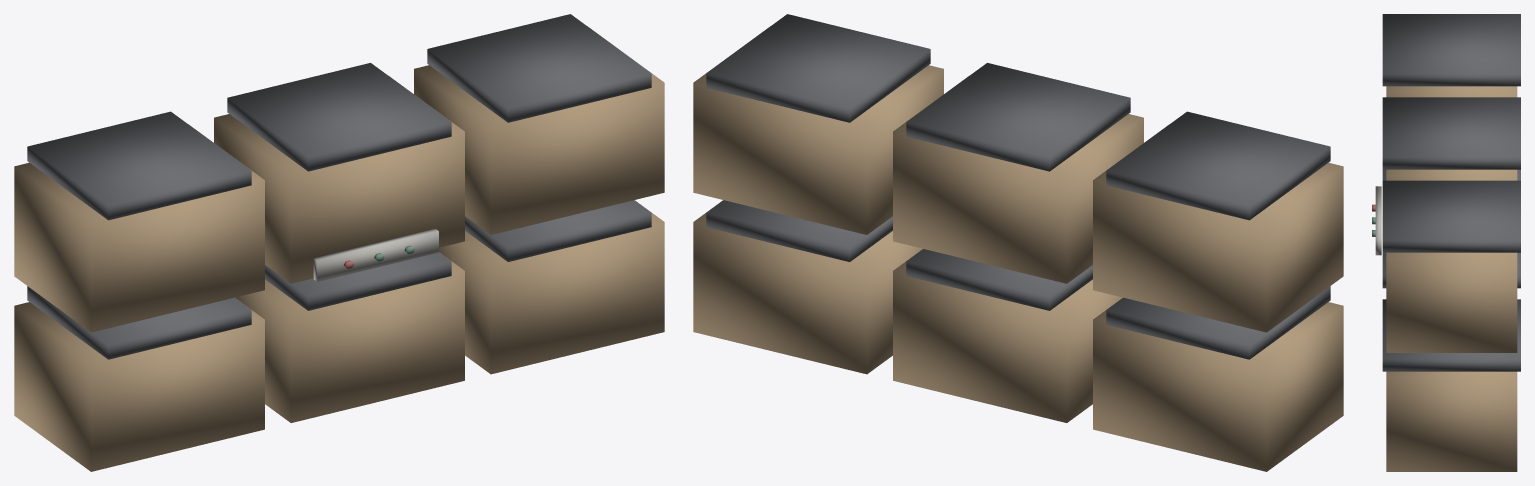
Rendered from market_produce_rack__wide.glb.
3 renders of one model, left to right at view 1: azimuth 30°, elevation 25°; view 2: azimuth 150°, elevation 25°; view 3: azimuth 270°, elevation 25°, orthographic. The views are drawn at different scales.
Parts seen in each view (by area): view 1: world; view 2: world; view 3: world.
Boxes of the visible parts, bbox=[...] form: world: bbox=[14, 14, 664, 471]; world: bbox=[693, 14, 1343, 471]; world: bbox=[1372, 14, 1520, 471].
Size of the model in its own units: 1.64 by 0.72 by 0.431.
